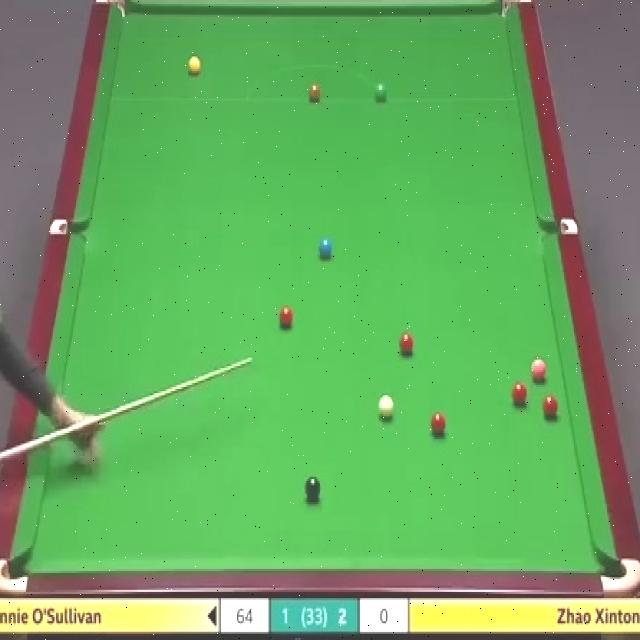black-ball: (304, 474, 321, 500)
blue-ball: (319, 237, 332, 260)
brown-ball: (309, 84, 321, 103)
green-ball: (375, 82, 387, 102)
pink-ball: (531, 356, 548, 383)
red-ball: (428, 412, 446, 438), (399, 330, 415, 356), (512, 382, 528, 404), (544, 396, 558, 419), (280, 306, 293, 330)
white-ball: (376, 394, 396, 424)
yellow-ball: (188, 56, 202, 78)
